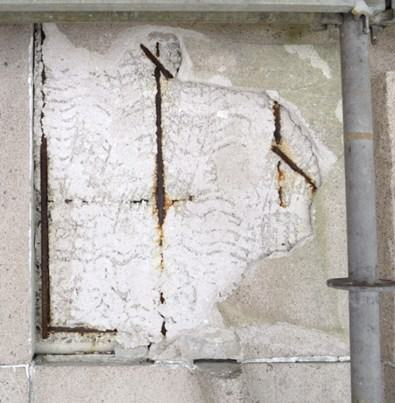Crack: (39, 24, 47, 137)
Exposed reinforcement: (39, 138, 51, 340), (154, 66, 168, 229), (269, 145, 318, 190), (138, 43, 175, 80), (326, 278, 395, 290), (47, 325, 119, 334), (276, 160, 285, 207), (273, 100, 282, 145), (154, 41, 161, 58)
Spalling: (30, 22, 323, 366)
